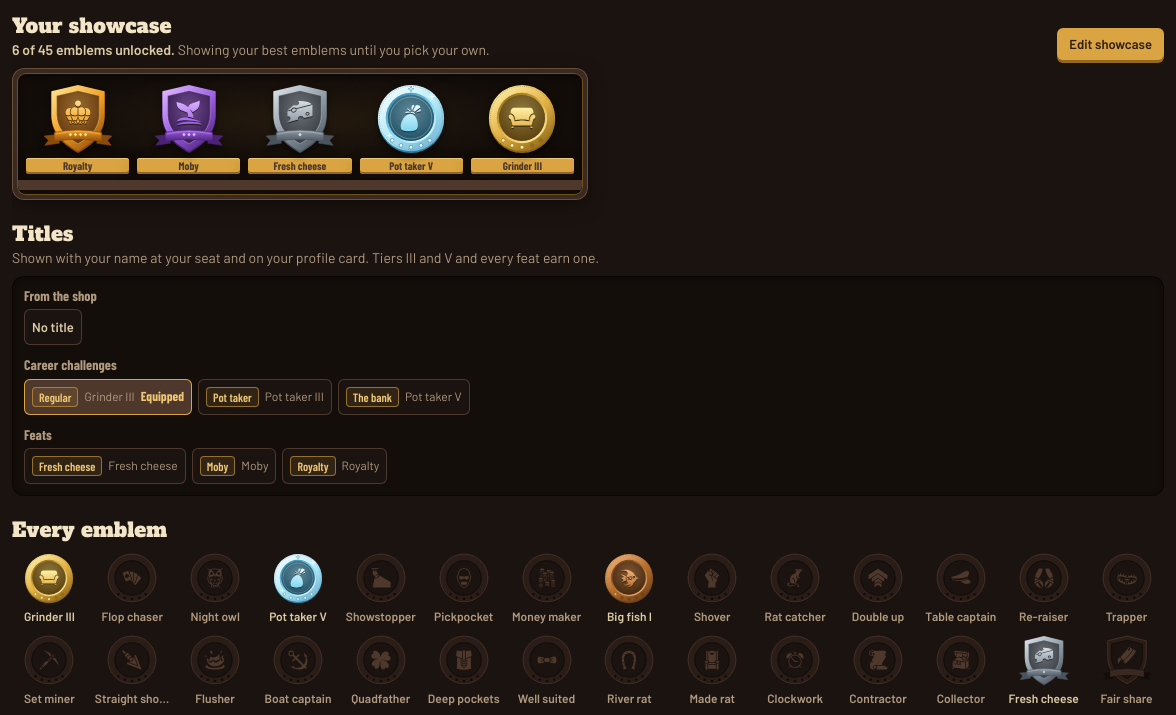
it: CabinetTab › says "Couldn't remove your title" when taking a title off fails
Click the button "No title" at (53, 327), box [24,309,82,345]
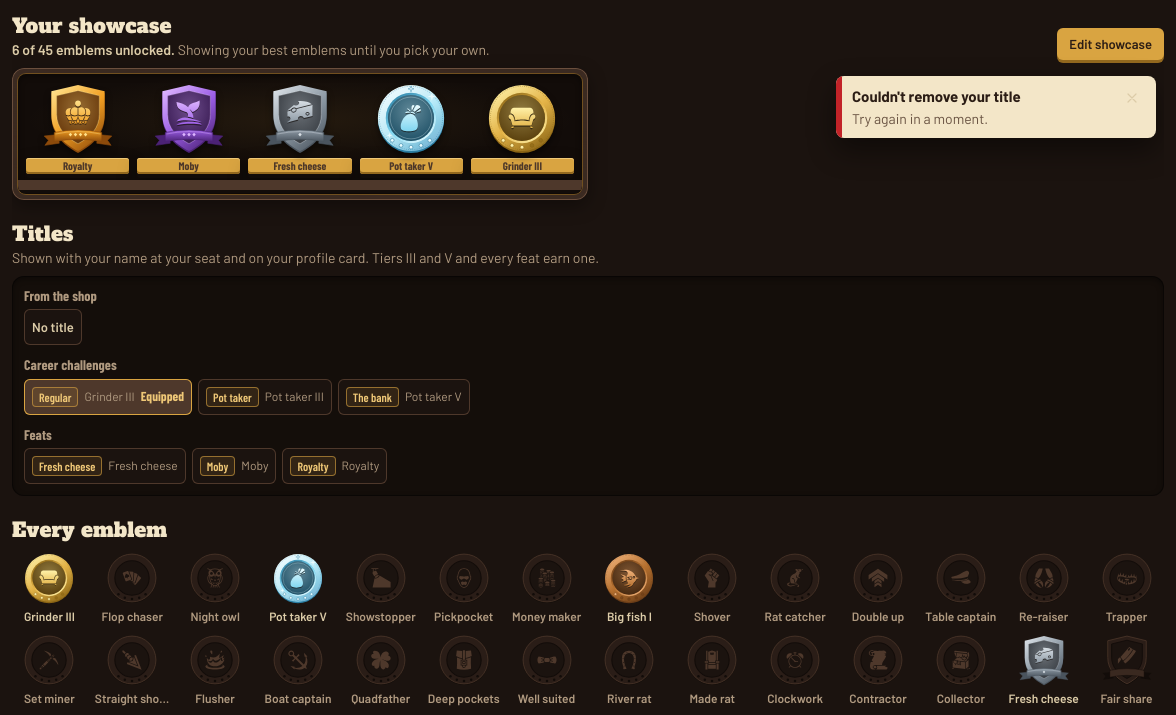
Expected: the text "Couldn't remove your title" is shown, [852,87,1021,105]
